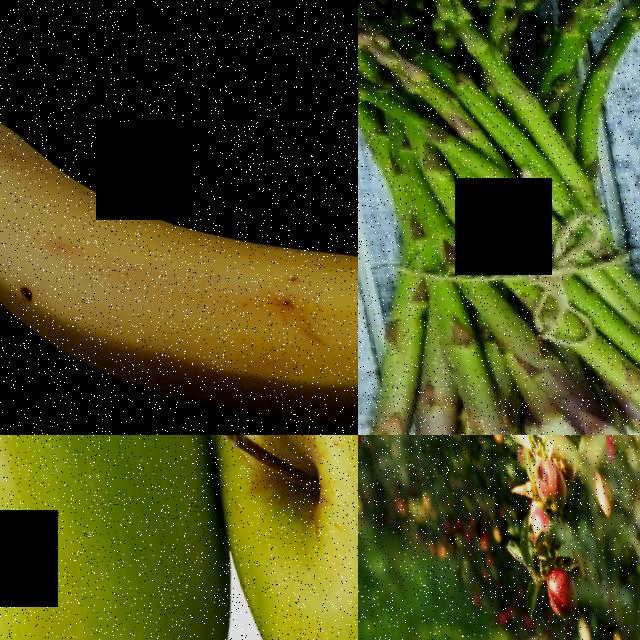apple: (0, 435, 274, 640), (164, 435, 358, 640), (531, 541, 578, 622), (520, 438, 571, 510), (512, 487, 548, 536)
asparagus: (436, 0, 610, 262), (358, 0, 434, 262)
banana: (0, 0, 358, 435)
